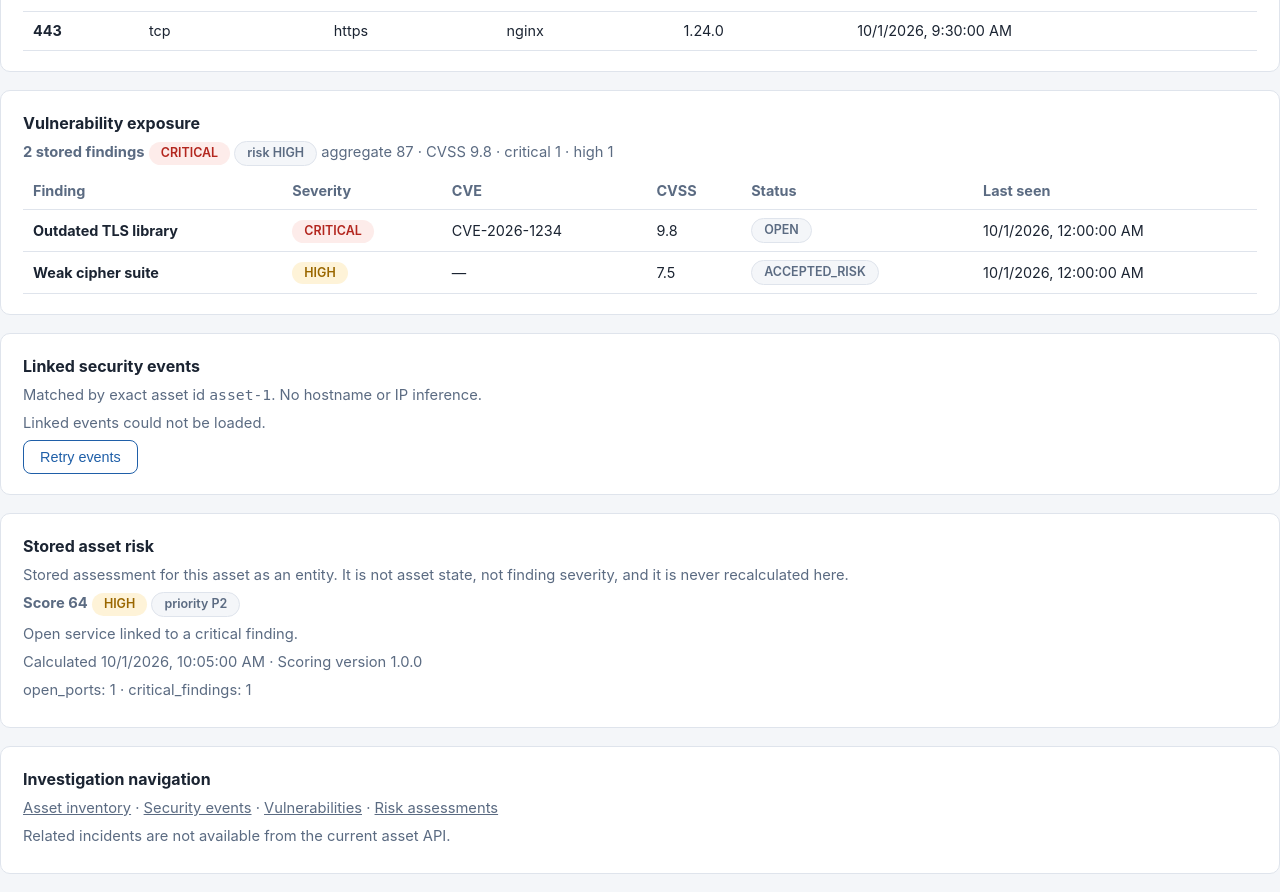
Test: Asset investigation workspace (Phase 3, Step 36) › isolates an events failure and recovers through its retry control
(page scrolled)
Expected: the text "Linked events could not be loaded." is shown, top-left (23, 414), bottom-right (266, 432)
Expected: the text "2 stored findings" is shown, top-left (23, 143), bottom-right (145, 161)
Click the button "Retry events" at (80, 457), box top-left (23, 440), bottom-right (138, 474)
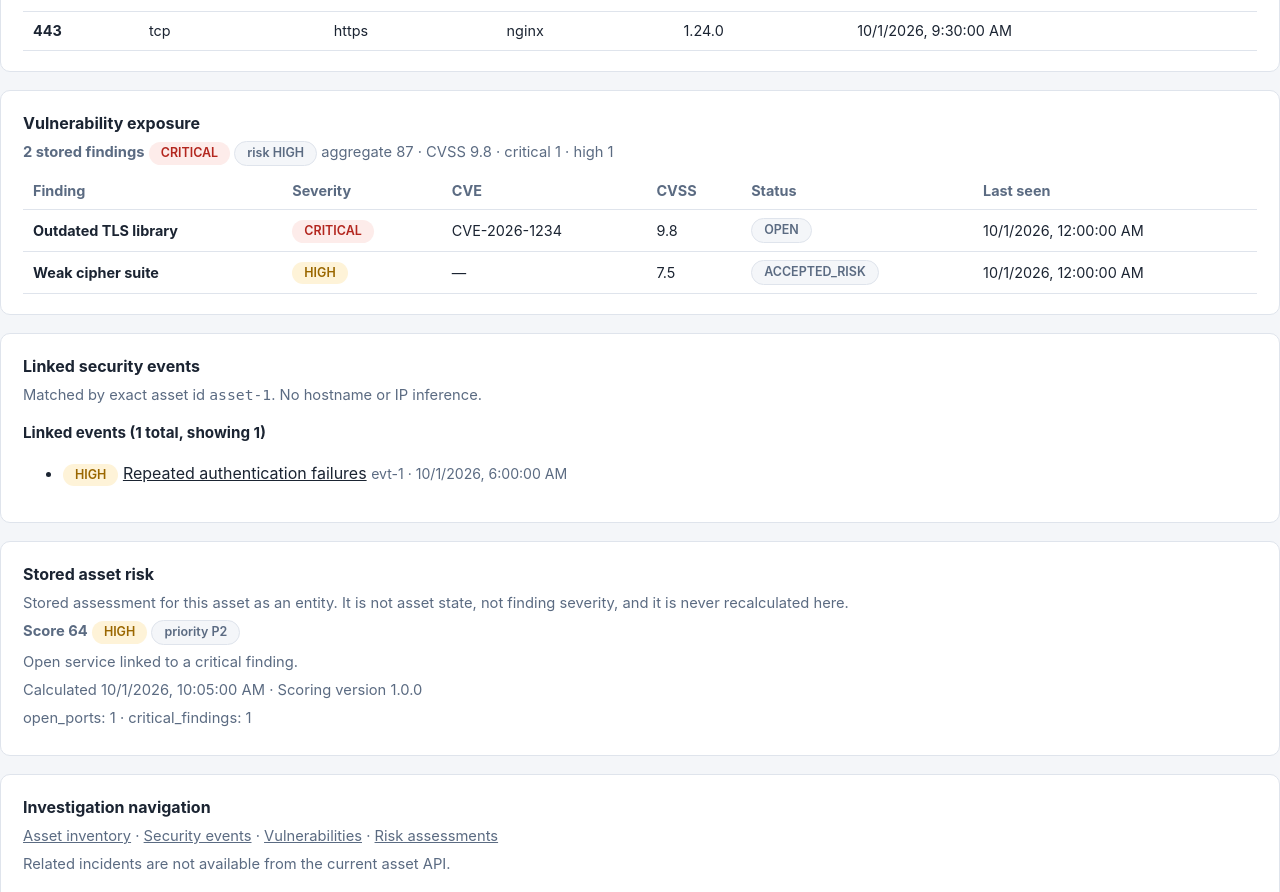
Result: the link "Repeated authentication failures" is shown at top-left (123, 463), bottom-right (367, 483)
